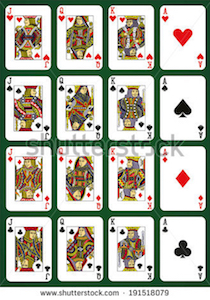AceOfClubs: (158, 214, 206, 282)
AceOfDiamonds: (158, 143, 207, 214)
AceOfHearts: (160, 4, 209, 72)
AceOfSpades: (158, 73, 207, 141)
JackOfClubs: (5, 214, 54, 284)
JackOfDiamonds: (5, 145, 53, 212)
JackOfHearts: (4, 5, 54, 72)
JackOfSpades: (4, 74, 52, 143)
KingOfClubs: (107, 215, 156, 283)
KingOfDiamonds: (106, 144, 156, 213)
KingOfHearts: (107, 3, 157, 73)
KingOfSpades: (108, 74, 157, 142)
QueenOfClubs: (56, 215, 104, 283)
QueenOfDiamonds: (56, 143, 105, 212)
QueenOfHearts: (56, 4, 105, 74)
QueenOfSpades: (54, 74, 105, 142)
